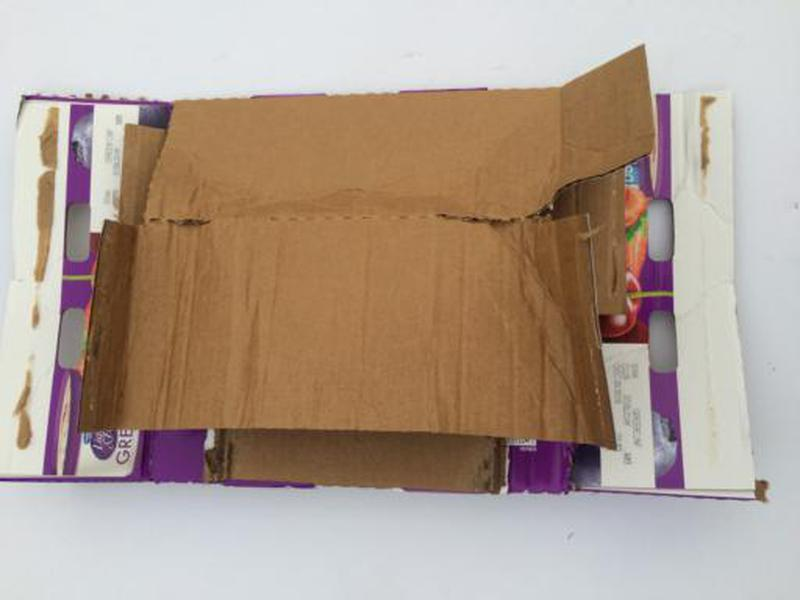cardboard: (1, 44, 773, 508)
